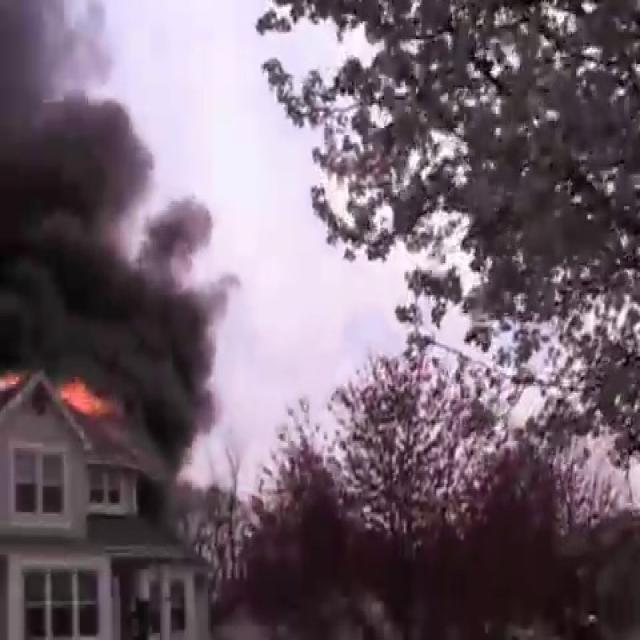Smoke: (0, 0, 229, 441)
